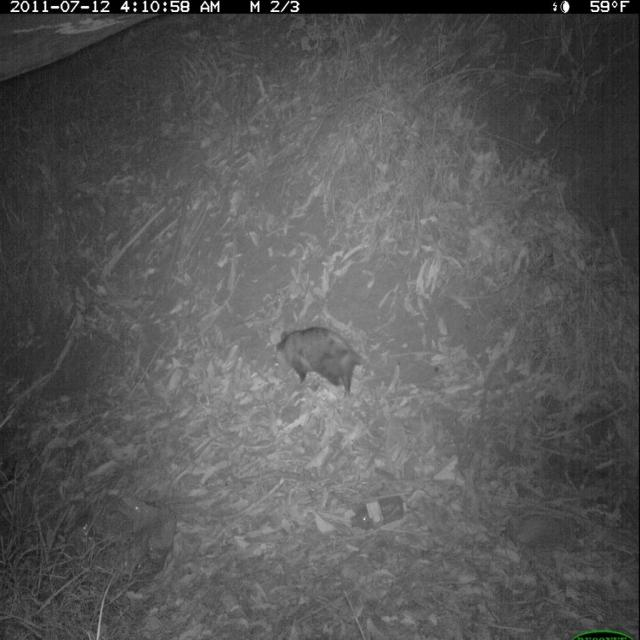opossum: (268, 313, 385, 418)
